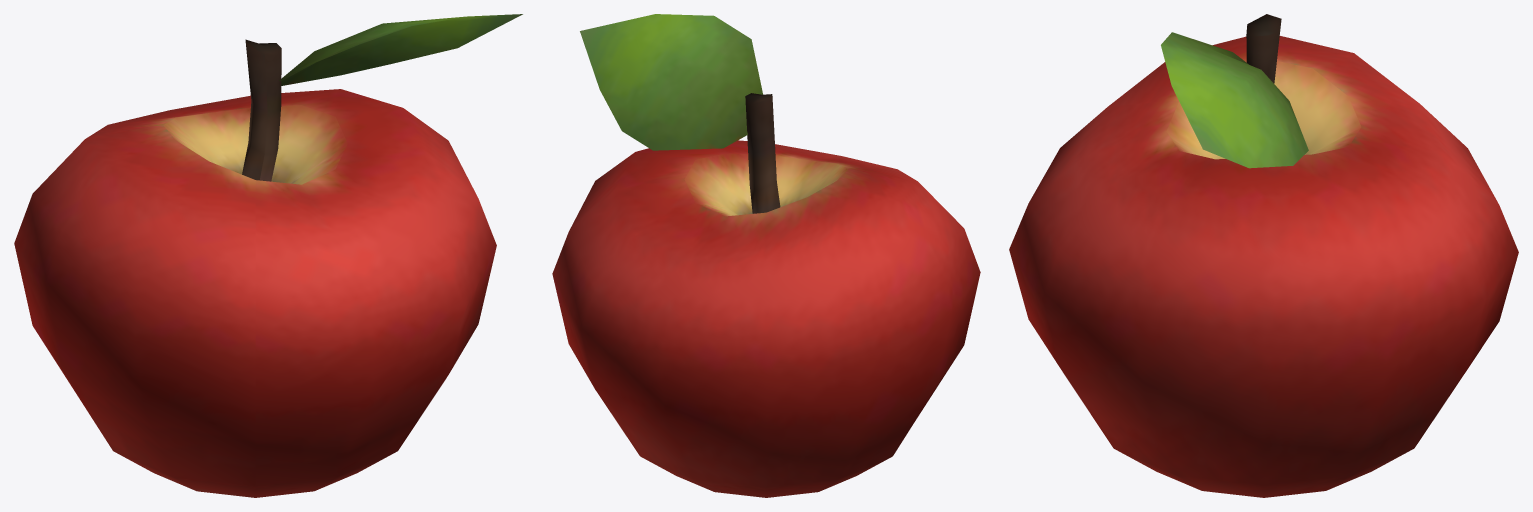
Rendered from Trash1.fbx.
3 views of the same model, side by side, from view 1: azimuth 30°, elevation 25°; view 2: azimuth 150°, elevation 25°; view 3: azimuth 270°, elevation 25° (orthographic). The views are drawn at different scales.
Visible parts, largest first — view 1: Apple; view 2: Apple; view 3: Apple.
Boxes of the visible parts, x1,y1,x2,y2 form: Apple: (14,14,522,497); Apple: (552,14,980,497); Apple: (1009,14,1518,497).
Bounding box in the file's own units: 0.1302 × 0.1244 × 0.1214.
